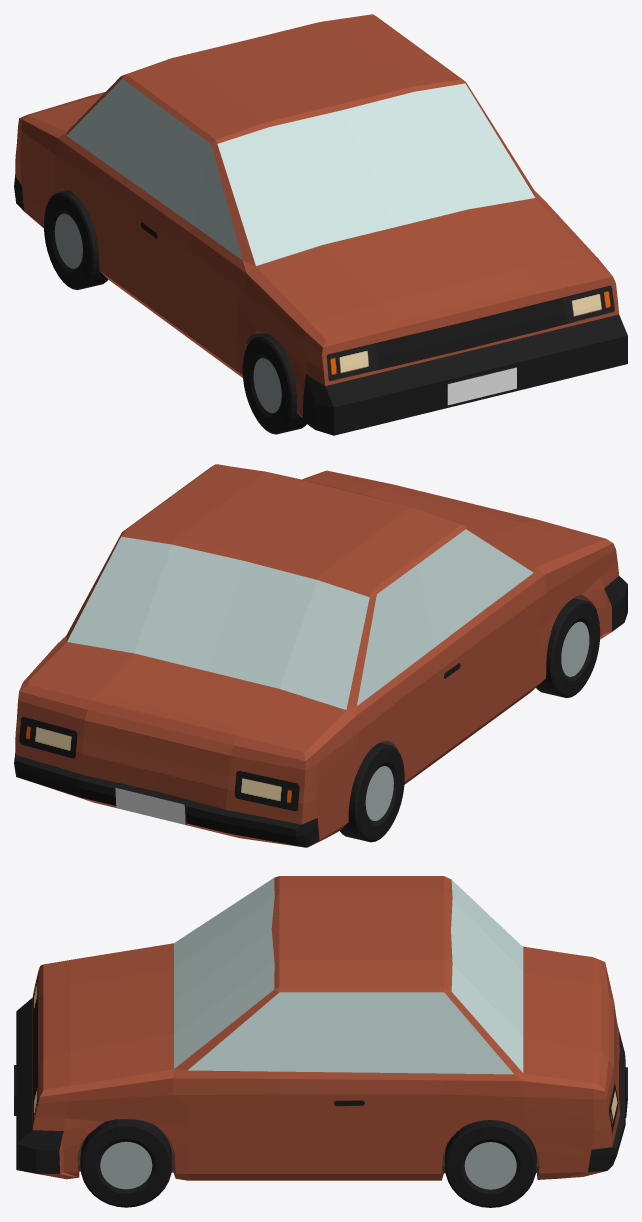
The model's file is red_car.fbx.
3 renders of one model, top to bottom at view 1: azimuth 30°, elevation 25°; view 2: azimuth 150°, elevation 25°; view 3: azimuth 270°, elevation 25°, orthographic. The views are drawn at different scales.
Visible parts, largest first — view 1: Cube; view 2: Cube; view 3: Cube.
Part boxes in pixels (x1=…): Cube: x1=14, y1=14, x2=627, y2=435; Cube: x1=14, y1=464, x2=627, y2=847; Cube: x1=14, y1=876, x2=627, y2=1207.
Size of the model in its own units: 304 by 210 by 553.
1 material, 1 textured.
